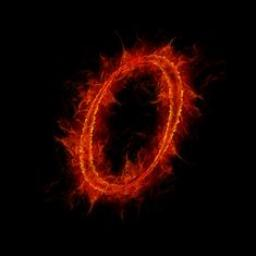o: (56, 36, 208, 208)
